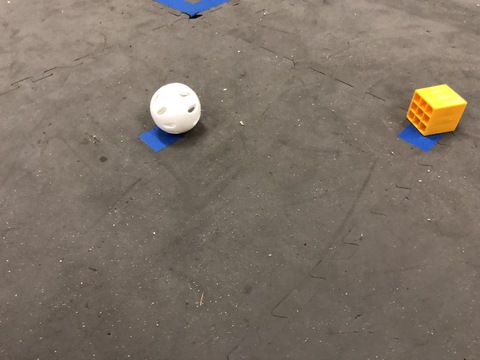ball: (140, 78, 214, 137)
block: (391, 77, 467, 146)
